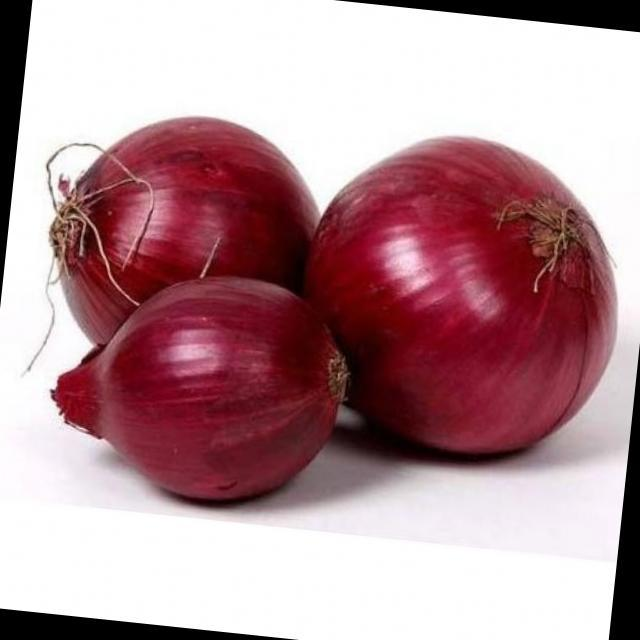ONIONS: (297, 124, 633, 463), (42, 264, 376, 516), (56, 90, 306, 308)
